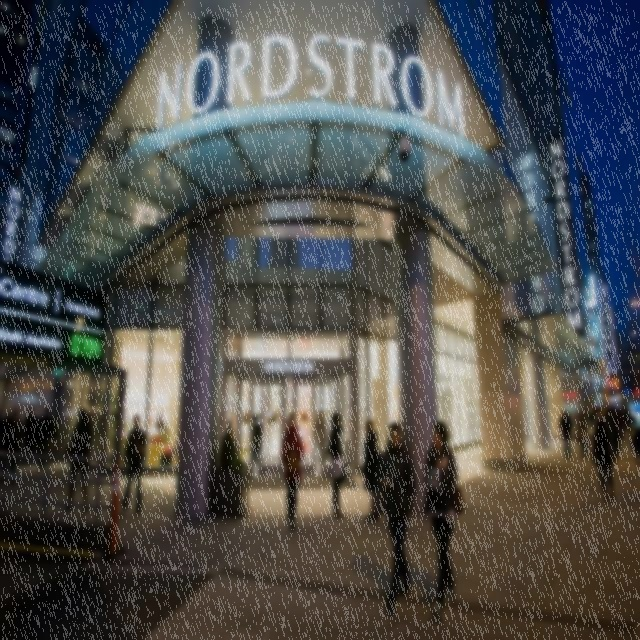pessoa: (422, 420, 464, 620), (375, 420, 417, 614), (62, 405, 96, 514), (280, 408, 304, 533), (590, 409, 620, 505), (421, 447, 456, 525), (121, 413, 147, 517), (326, 410, 349, 520), (362, 418, 382, 524), (2, 410, 23, 487), (36, 405, 55, 473), (20, 404, 38, 466), (8, 405, 24, 474), (606, 403, 624, 459), (558, 407, 574, 461), (315, 407, 328, 466), (576, 409, 590, 461), (252, 412, 262, 478), (624, 406, 634, 438), (98, 406, 106, 437), (633, 425, 639, 466), (587, 405, 595, 432), (600, 403, 607, 432), (604, 404, 612, 425), (156, 411, 164, 429), (592, 405, 598, 428), (631, 408, 638, 423), (585, 402, 589, 418), (614, 403, 622, 410), (4, 412, 10, 420), (624, 422, 628, 431), (591, 402, 595, 411), (608, 402, 614, 407), (598, 403, 602, 409)
